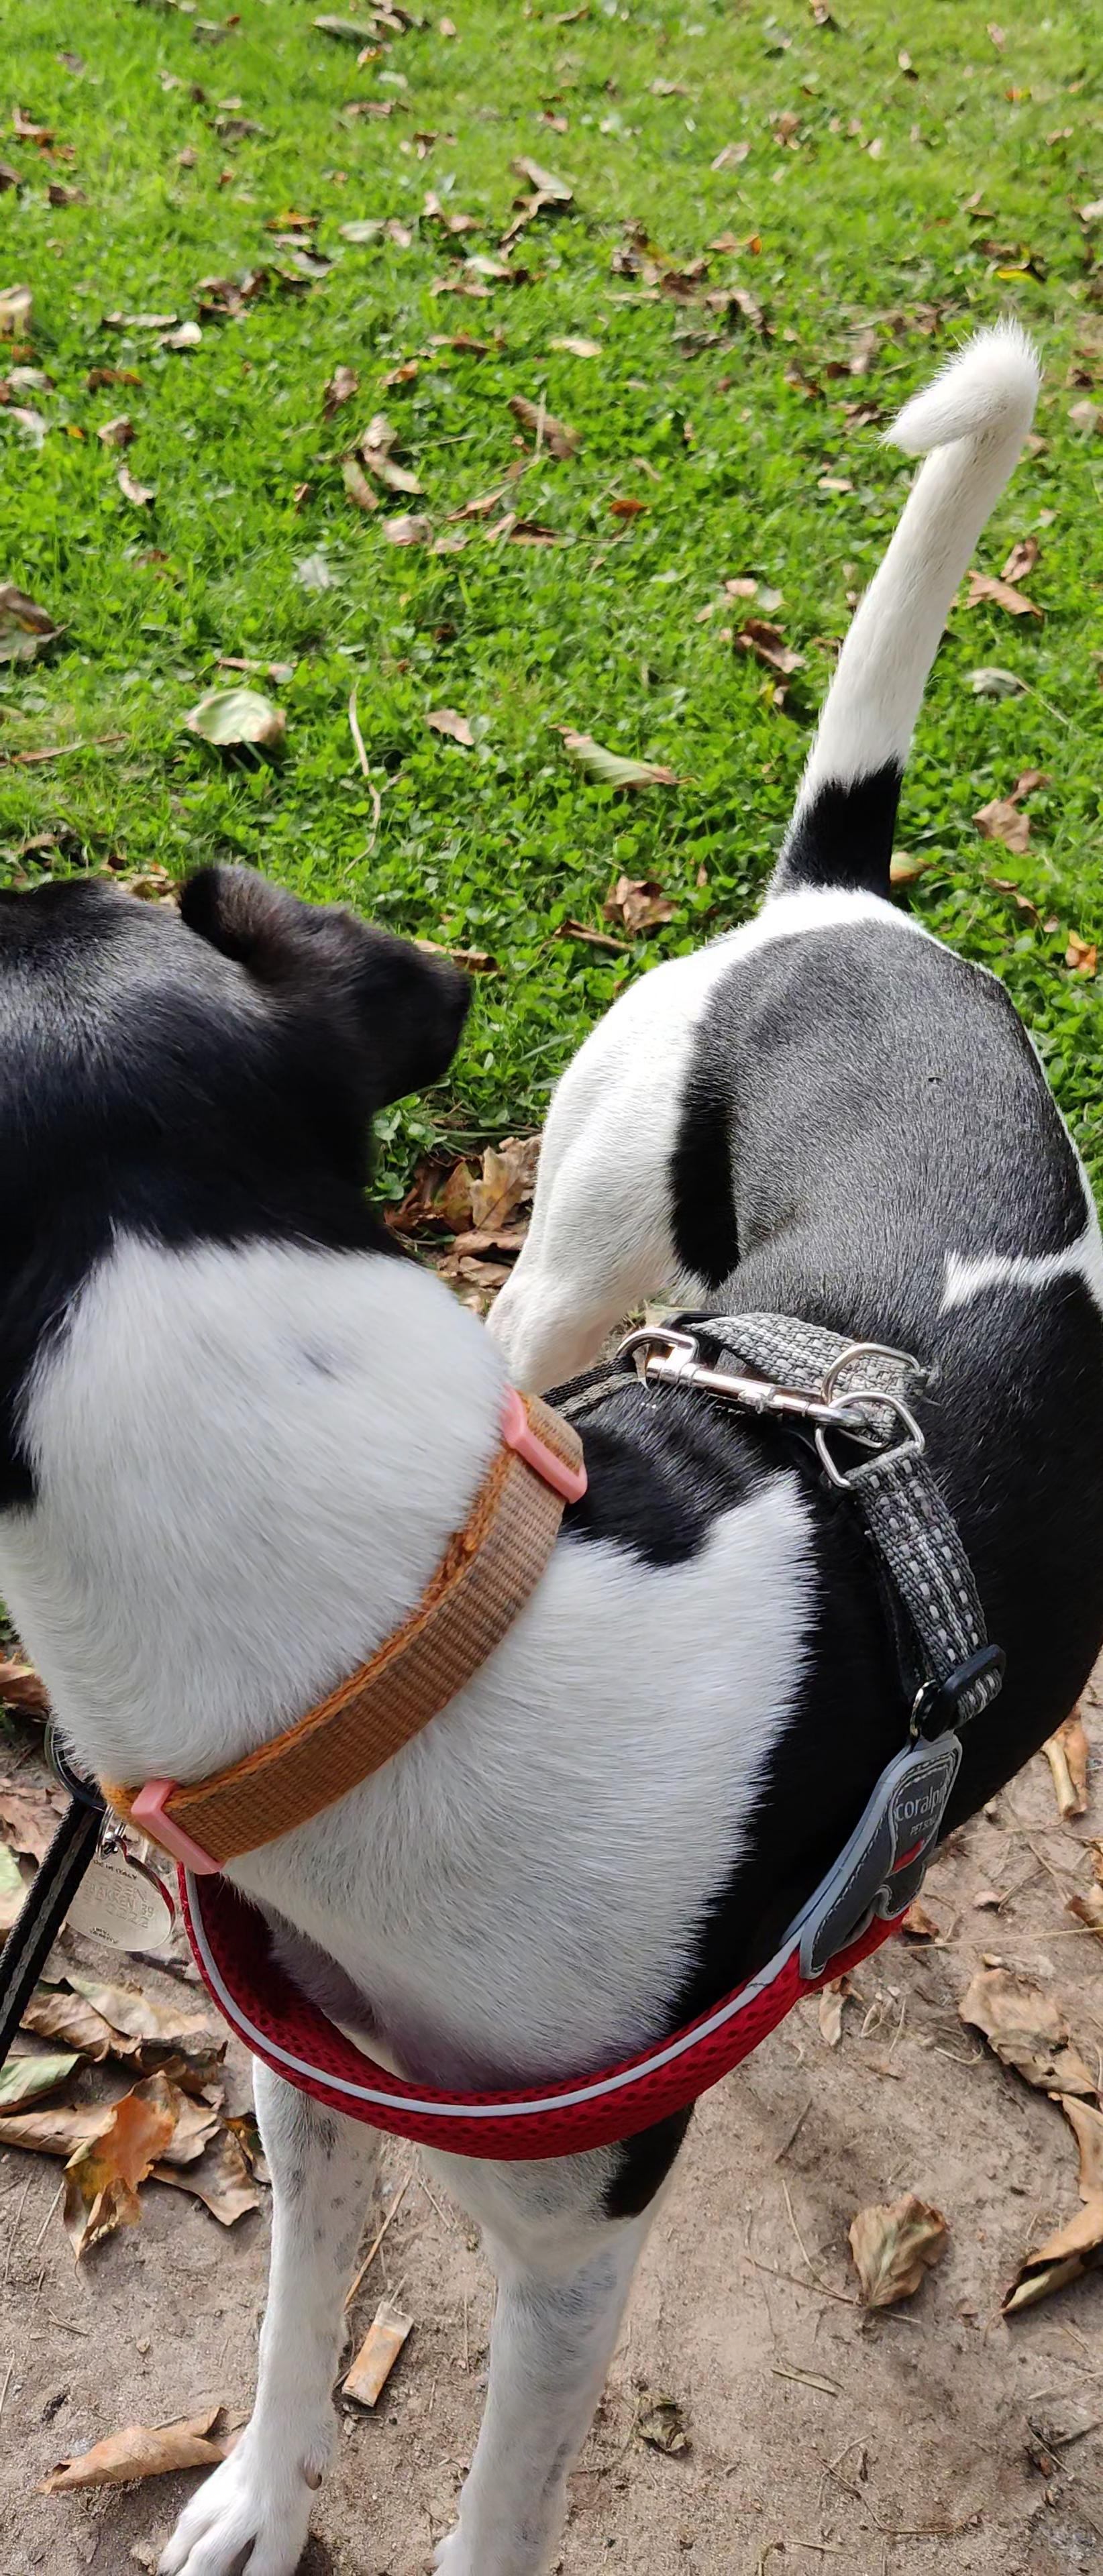Dog: (0, 302, 1103, 2576)
